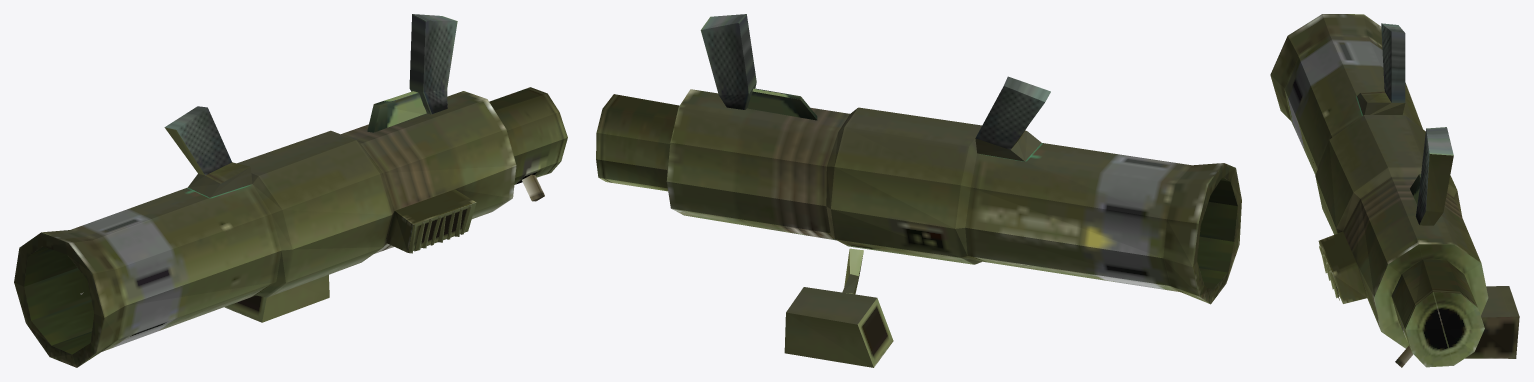
File: WANTIARM.obj
3 renders of one model, left to right at view 1: azimuth 30°, elevation 25°; view 2: azimuth 150°, elevation 25°; view 3: azimuth 270°, elevation 25°, orthographic. The views are drawn at different scales.
Visible parts, largest first — view 1: Node 0; view 2: Node 0; view 3: Node 0.
Part boxes in pixels (left/top/right/bottom): Node 0: left=14, top=14, right=567, bottom=367; Node 0: left=596, top=14, right=1241, bottom=367; Node 0: left=1270, top=14, right=1519, bottom=367.
Bounding box in the file's own units: 1.81 × 0.86 × 0.72.
Materials: 2 (2 with a texture image).
